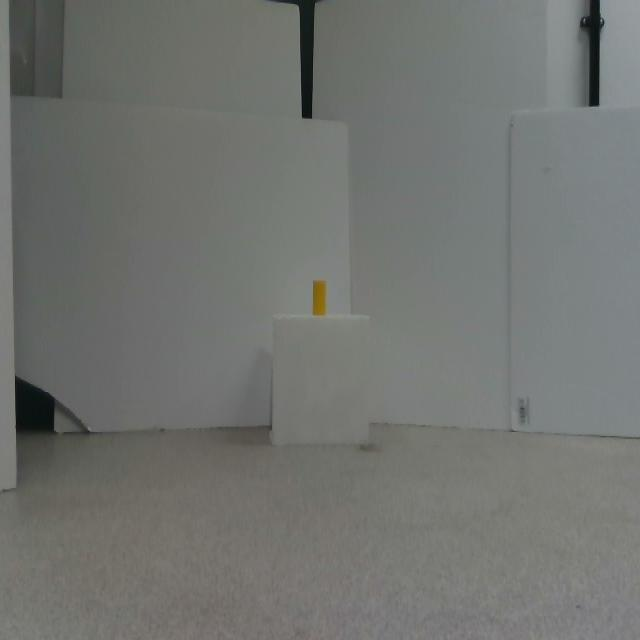yellow_cylinder: (313, 280, 326, 316)
